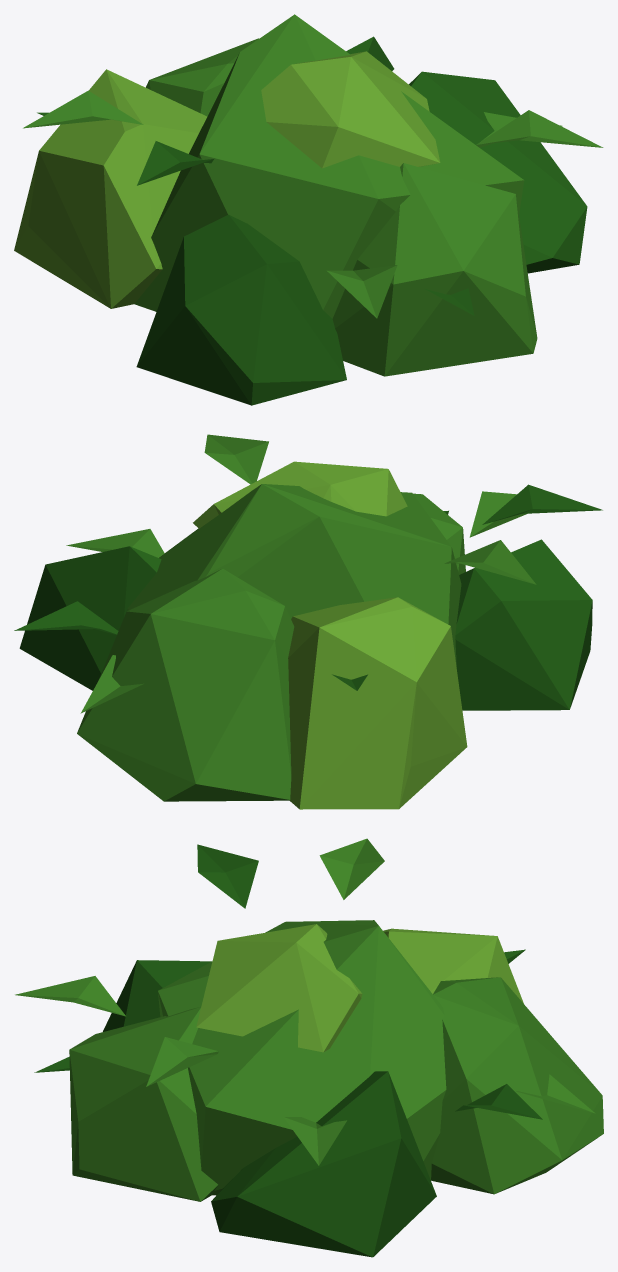
The model's file is bush.glb.
3 views of the same model, one above another, from view 1: azimuth 30°, elevation 25°; view 2: azimuth 150°, elevation 25°; view 3: azimuth 270°, elevation 25° (orthographic). The views are drawn at different scales.
Visible parts, largest first — view 1: Bush; view 2: Bush; view 3: Bush.
Boxes of the visible parts, x1,y1,x2,y2 form: Bush: (14, 14, 603, 405); Bush: (14, 434, 602, 809); Bush: (15, 838, 603, 1257).
Size of the model in its own units: 1.36 by 0.573 by 1.41.
